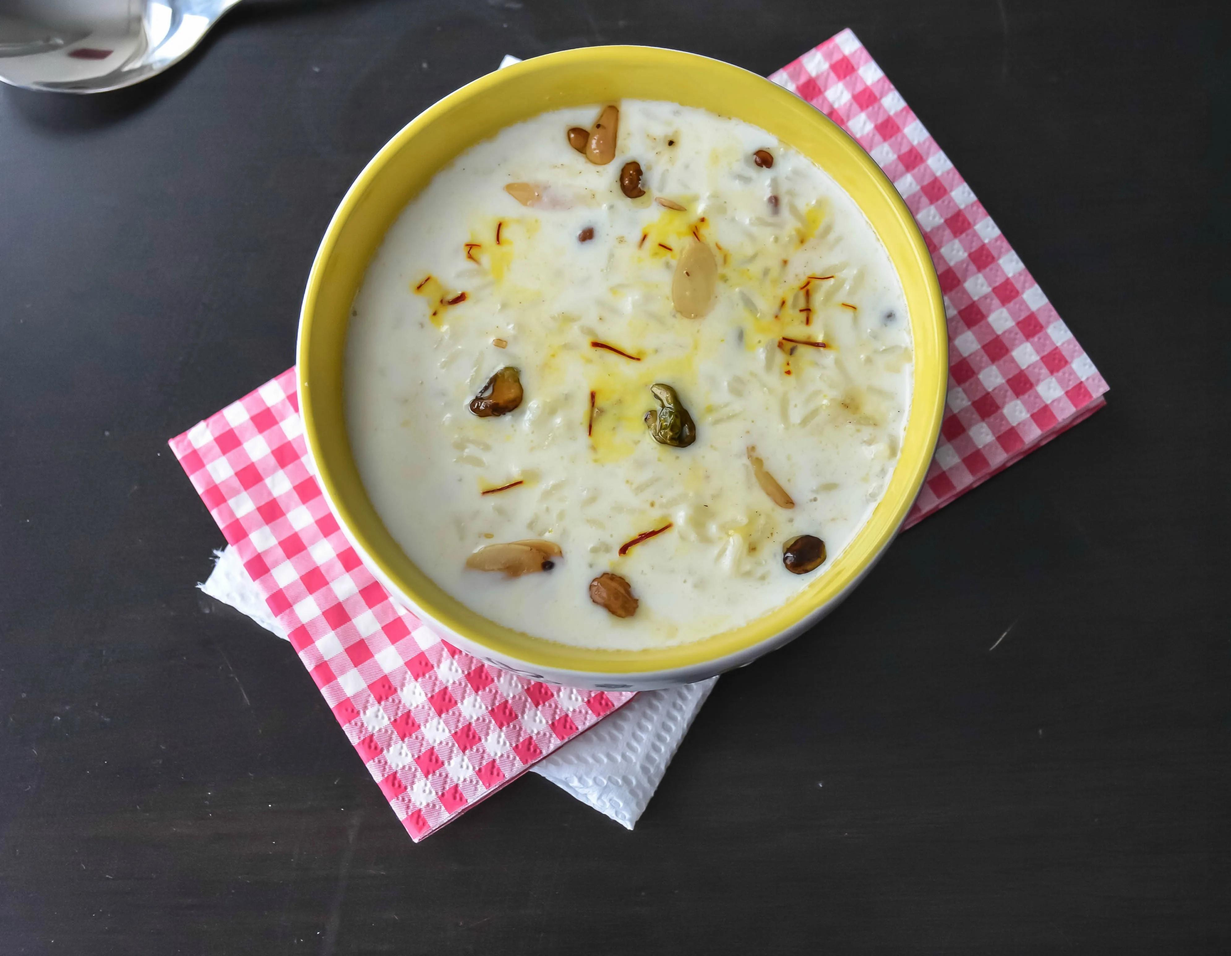Kheer: (350, 107, 901, 647)
